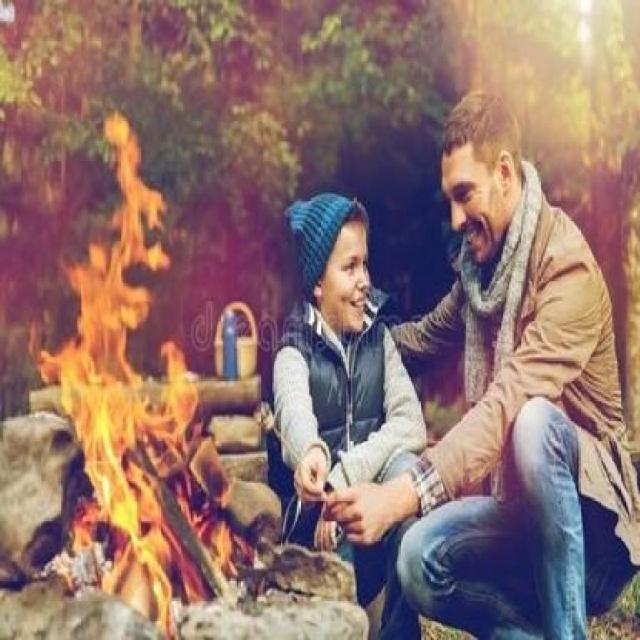Fire: (44, 110, 244, 640)
